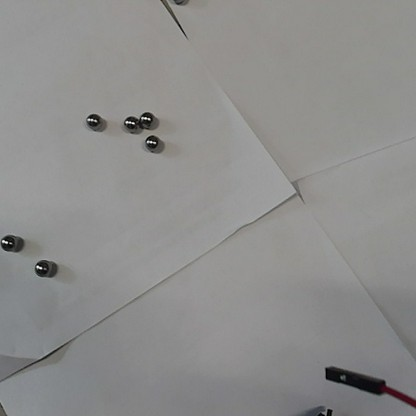ironball: (31, 256, 56, 279), (0, 230, 19, 254), (83, 110, 103, 131), (121, 114, 139, 135), (136, 108, 154, 126), (143, 135, 160, 151)
